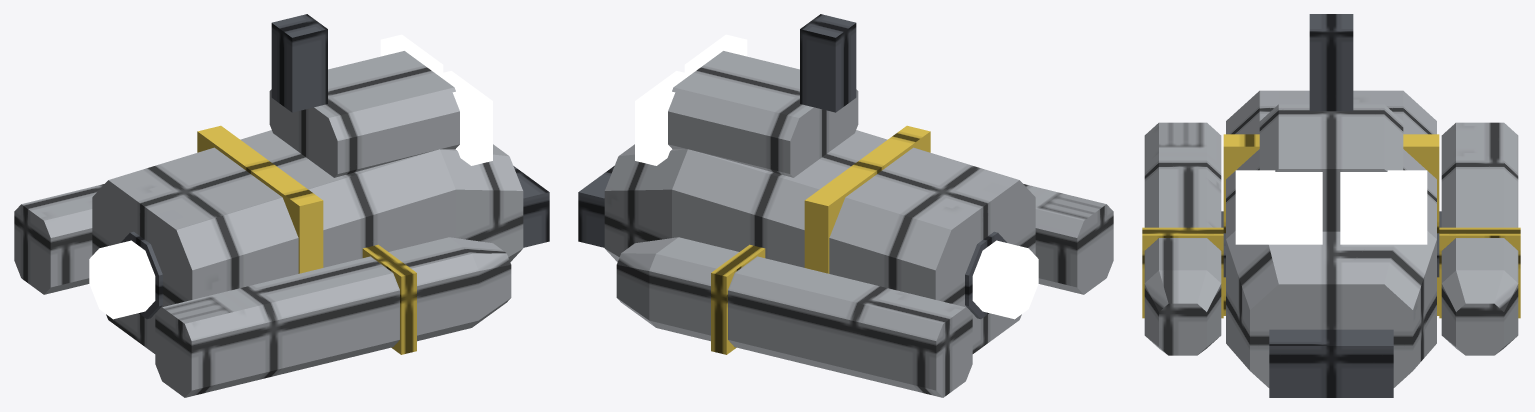
The model's file is tug_lod2.glb.
3 renders of one model, left to right at view 1: azimuth 30°, elevation 25°; view 2: azimuth 150°, elevation 25°; view 3: azimuth 270°, elevation 25°, orthographic. The views are drawn at different scales.
Parts seen in each view (by area): view 1: tug_lod2_body, tug_lod2_glow; view 2: tug_lod2_body, tug_lod2_glow; view 3: tug_lod2_body, tug_lod2_glow.
Boxes of the visible parts, left/top/right/bottom form: tug_lod2_body: left=14, top=14, right=549, bottom=397; tug_lod2_glow: left=89, top=34, right=492, bottom=319; tug_lod2_body: left=578, top=14, right=1113, bottom=397; tug_lod2_glow: left=635, top=34, right=1038, bottom=319; tug_lod2_body: left=1142, top=14, right=1520, bottom=397; tug_lod2_glow: left=1235, top=170, right=1427, bottom=244.
Size of the model in its own units: 0.583 by 0.3888 by 0.4345.
2 materials, 1 textured.
